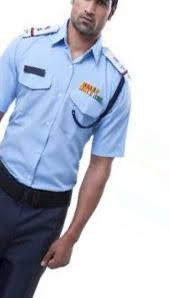uniform: (10, 19, 128, 285)
